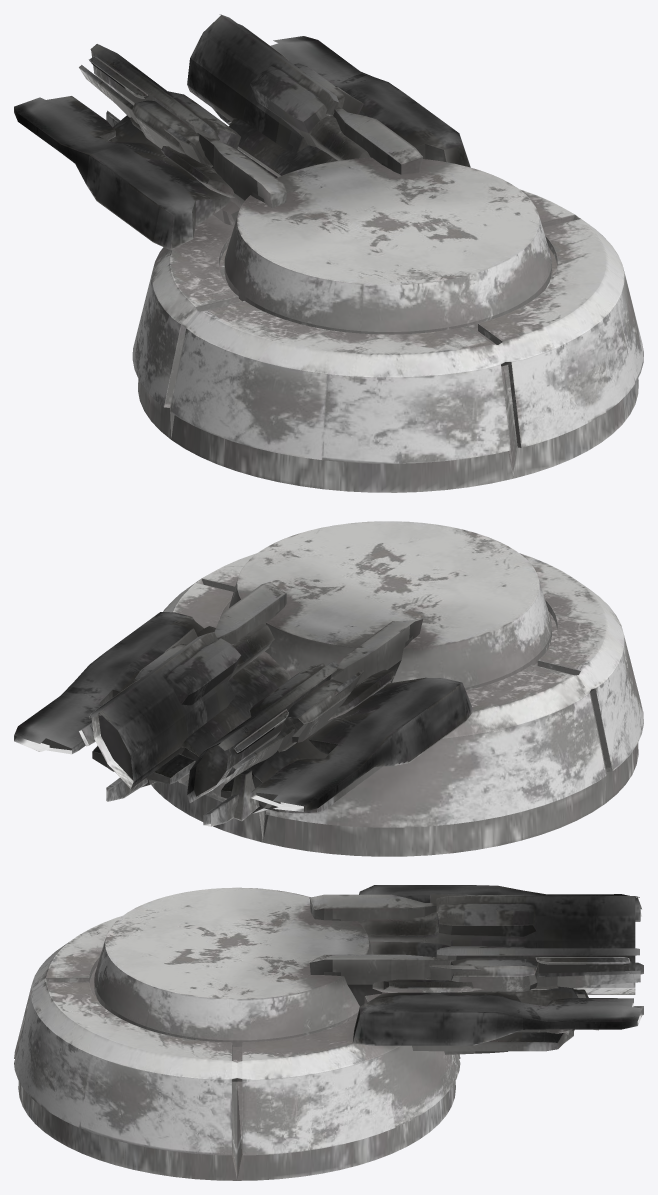
The picture shows the model from 3 angles, top to bottom: view 1: azimuth 30°, elevation 25°; view 2: azimuth 150°, elevation 25°; view 3: azimuth 270°, elevation 25°; orthographic projection. The views are drawn at different scales.
Parts seen in each view (by area): view 1: W1_000; view 2: W1_000; view 3: W1_000.
Boxes of the visible parts, x1,y1,x2,y2 form: W1_000: [14, 14, 643, 492]; W1_000: [14, 521, 643, 856]; W1_000: [14, 885, 643, 1180].
Bounding box in the file's own units: 4.45 × 1.83 × 6.27.
1 material, 1 textured.
